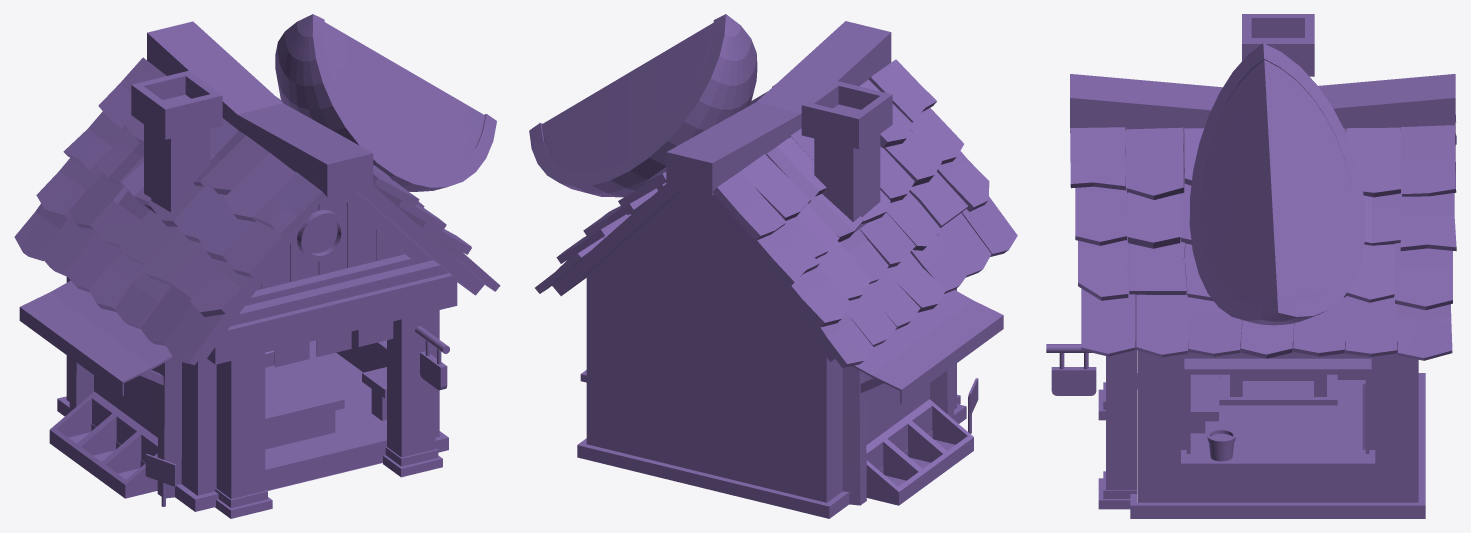
Rendered from sample_store.fbx.
The picture shows the model from 3 angles, left to right: view 1: azimuth 30°, elevation 25°; view 2: azimuth 150°, elevation 25°; view 3: azimuth 270°, elevation 25°; orthographic projection. The views are drawn at different scales.
Visible parts, largest first — view 1: Cylinder.004; view 2: Cylinder.004; view 3: Cylinder.004.
Boxes of the visible parts, bbox=[...] form: Cylinder.004: bbox=[14, 14, 500, 518]; Cylinder.004: bbox=[529, 14, 1017, 518]; Cylinder.004: bbox=[1046, 14, 1456, 518].
Bounding box in the file's own units: 7.72 × 7.1 × 6.02.
Materials: 1 (1 with a texture image).
